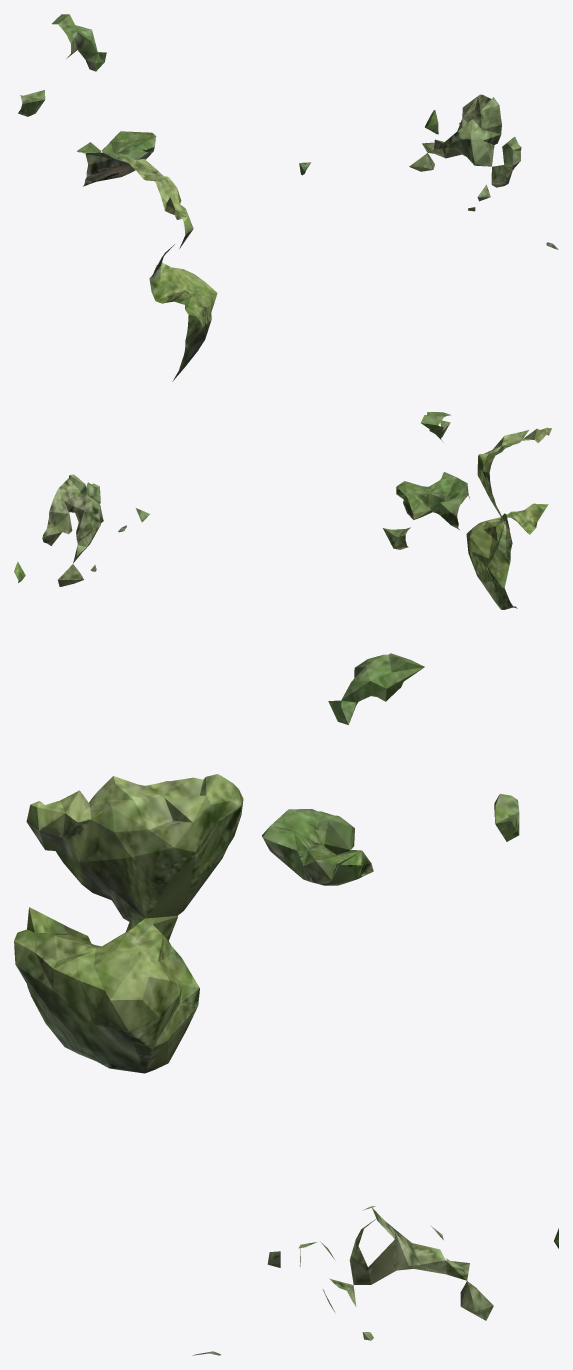
3 renders of one model, top to bottom at view 1: azimuth 30°, elevation 25°; view 2: azimuth 150°, elevation 25°; view 3: azimuth 270°, elevation 25°, orthographic. The views are drawn at different scales.
Bounding box in the file's own units: 26.11 × 16.3 × 19.94.
1 material, 1 textured.
